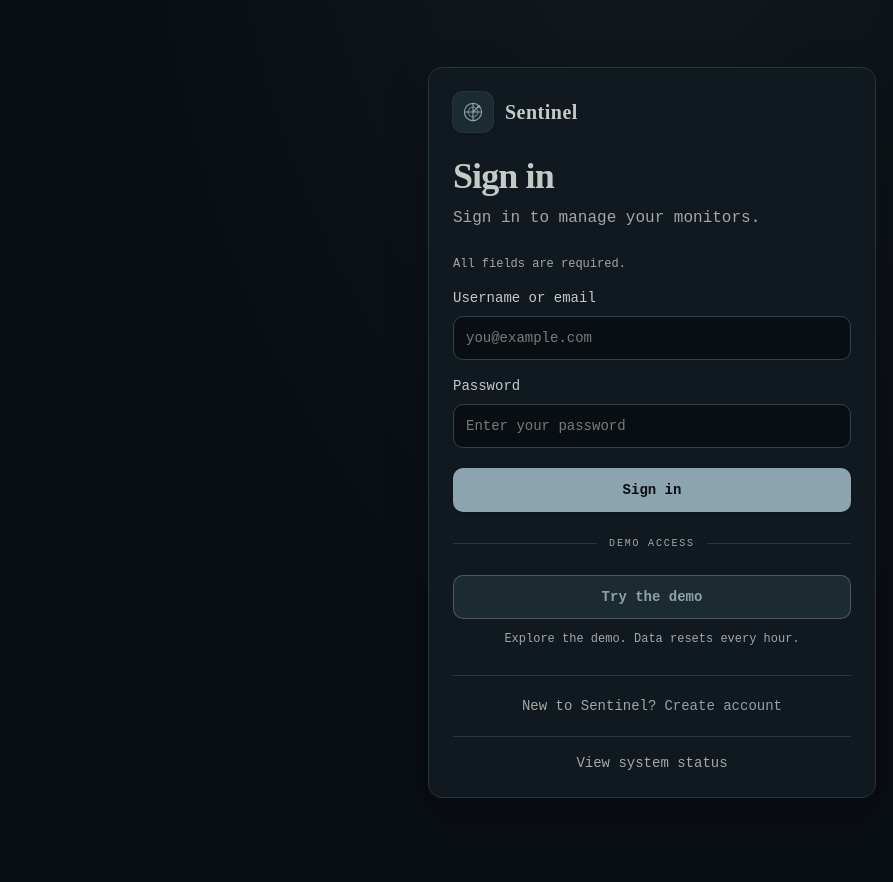
Test: LoginPage › network/5xx failures show the API-unreachable message
Type "eliott" into the field labelled "Username or email". click: point(652, 338)
box: [453,316,851,360]
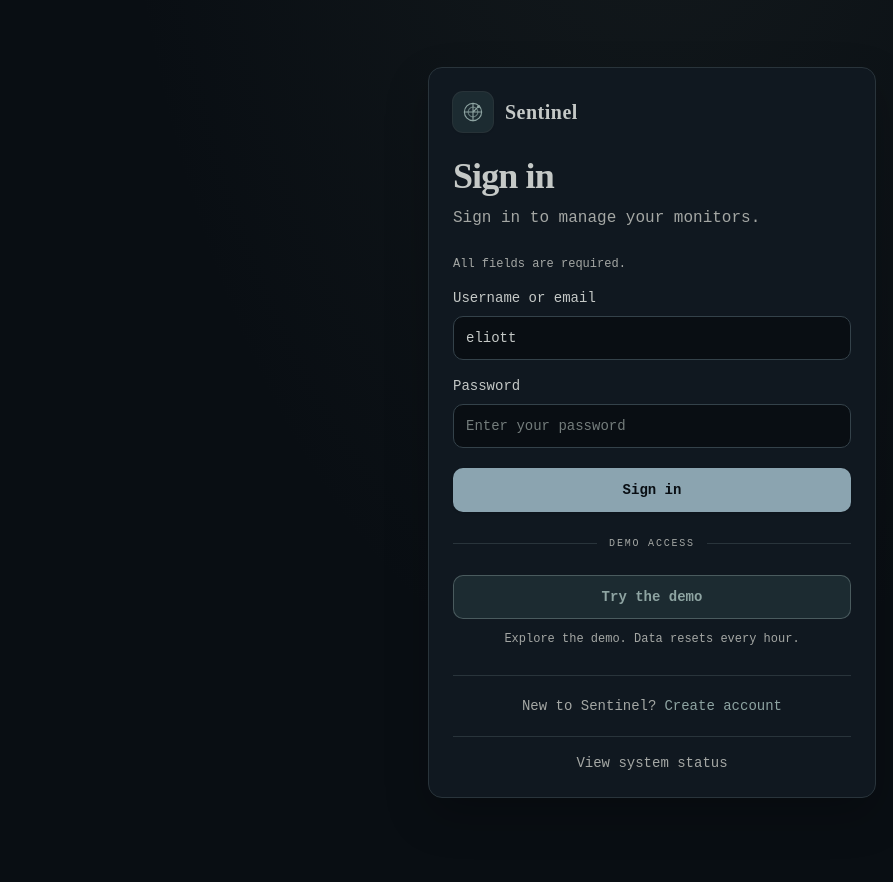
Type "pw" into the password field labelled "Password". click: point(652, 426)
box: [453,404,851,448]
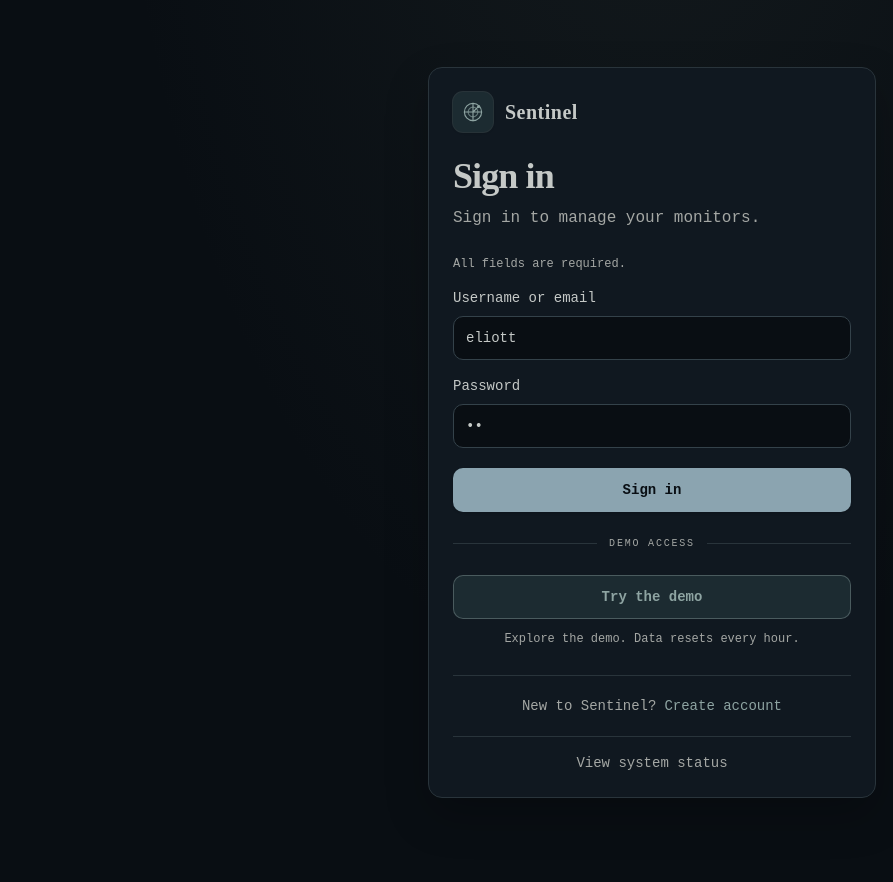
Click the button "Sign in". click: point(652, 490)
box: [453,468,851,512]
(page scrolled)
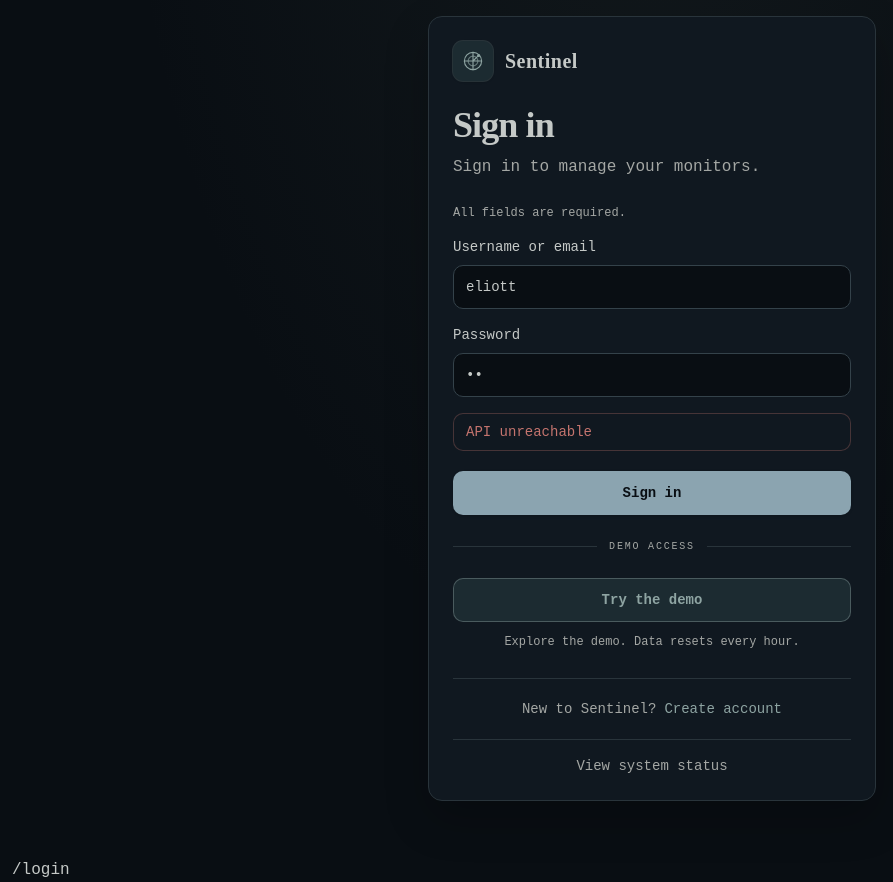
expect the text with test id "loc" reads "/login": met, box [12,861,70,879]
expect the text "API unreachable" is shown: met, box [453,412,851,450]
